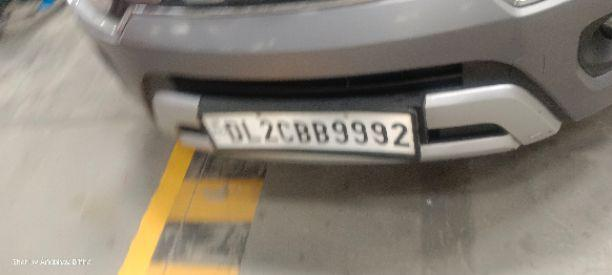license_plate: (200, 106, 420, 164)
